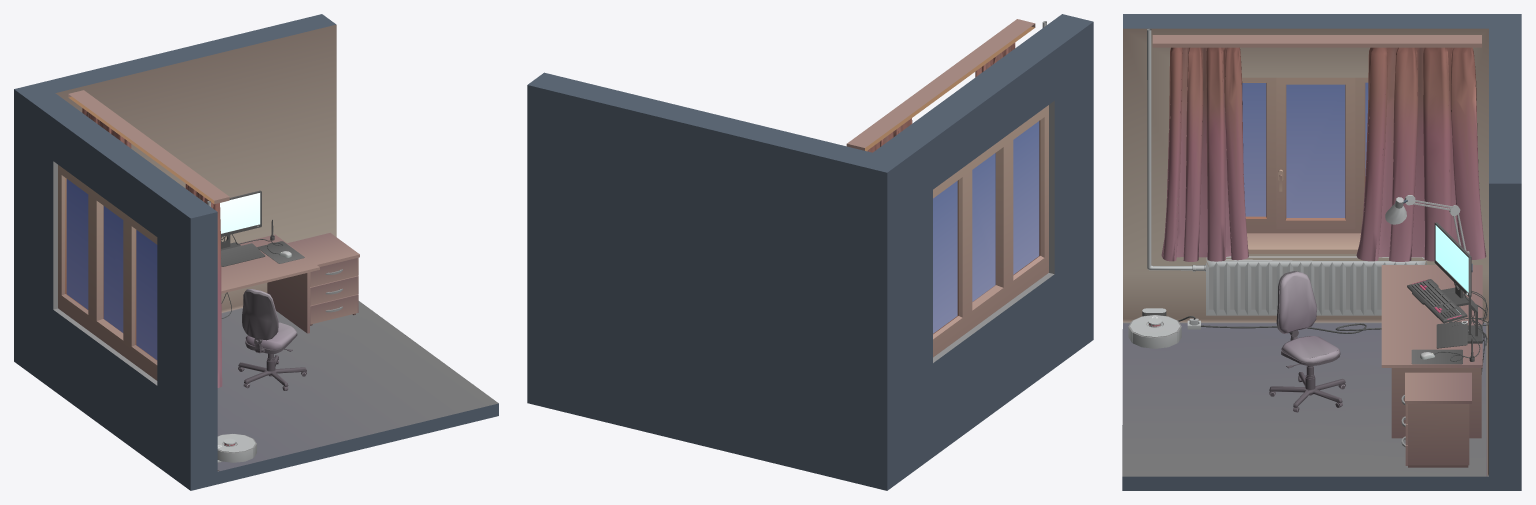
Rendered from room-model.glb.
The picture shows the model from 3 angles, left to right: view 1: azimuth 30°, elevation 25°; view 2: azimuth 150°, elevation 25°; view 3: azimuth 270°, elevation 25°; orthographic projection. The views are drawn at different scales.
Parts seen in each view (by area): view 1: body1, window4, window, table, cabin, railing, chair_body, _________6_blinn1_0, emis, vacuum1, pillows, tablet (+1 smaller); view 2: body1, window4, window, railing; view 3: body1, _________6_blinn1_0, window4, window, radiator, table, cabin, railing, pillows, vacuum1, chair_body, radiator_blinn1_0.001 (+8 smaller).
Boxes of the visible parts, bbox=[...] form: body1: bbox=[14, 14, 498, 490]; window4: bbox=[66, 179, 157, 359]; window: bbox=[58, 165, 157, 380]; table: bbox=[221, 234, 319, 333]; cabin: bbox=[287, 233, 359, 325]; railing: bbox=[68, 90, 229, 204]; chair_body: bbox=[238, 290, 306, 390]; _________6_blinn1_0: bbox=[82, 108, 222, 387]; emis: bbox=[218, 193, 281, 447]; vacuum1: bbox=[217, 434, 256, 462]; pillows: bbox=[245, 289, 296, 349]; tablet: bbox=[221, 243, 265, 266]; body1: bbox=[527, 14, 1093, 490]; window4: bbox=[933, 121, 1039, 333]; window: bbox=[933, 105, 1048, 357]; railing: bbox=[846, 19, 1035, 151]; body1: bbox=[1122, 14, 1521, 490]; _________6_blinn1_0: bbox=[1161, 47, 1486, 261]; window4: bbox=[1242, 82, 1368, 217]; window: bbox=[1242, 77, 1368, 253]; radiator: bbox=[1206, 256, 1426, 315]; table: bbox=[1381, 265, 1482, 438]; cabin: bbox=[1405, 372, 1471, 467]; railing: bbox=[1152, 35, 1481, 47]; pillows: bbox=[1278, 271, 1339, 362]; vacuum1: bbox=[1128, 308, 1198, 348]; chair_body: bbox=[1269, 271, 1345, 412]; radiator_blinn1_0.001: bbox=[1147, 28, 1205, 271].
Bounding box in the file's own units: 6.68 × 5.66 × 6.65.
